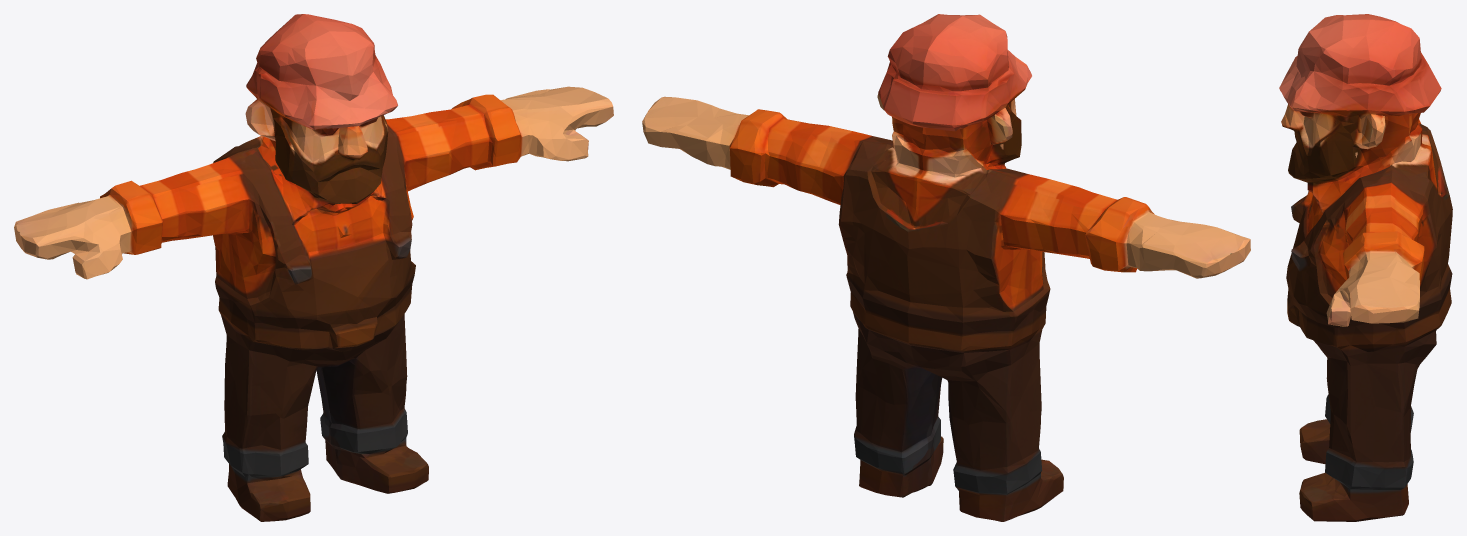
File: boneless-pork-loin-chops.glb
3 renders of one model, left to right at view 1: azimuth 30°, elevation 25°; view 2: azimuth 150°, elevation 25°; view 3: azimuth 270°, elevation 25°, orthographic.
Parts seen in each view (by area): view 1: tmpmtr4pg8r.ply; view 2: tmpmtr4pg8r.ply; view 3: tmpmtr4pg8r.ply.
Boxes of the visible parts, box(x1,y1,x2,y2) form: tmpmtr4pg8r.ply: box(14, 14, 613, 521); tmpmtr4pg8r.ply: box(642, 14, 1250, 521); tmpmtr4pg8r.ply: box(1279, 14, 1452, 521).
Bounding box in the file's own units: 1.99 × 1.51 × 0.5133.
Materials: 1 (1 with a texture image).
